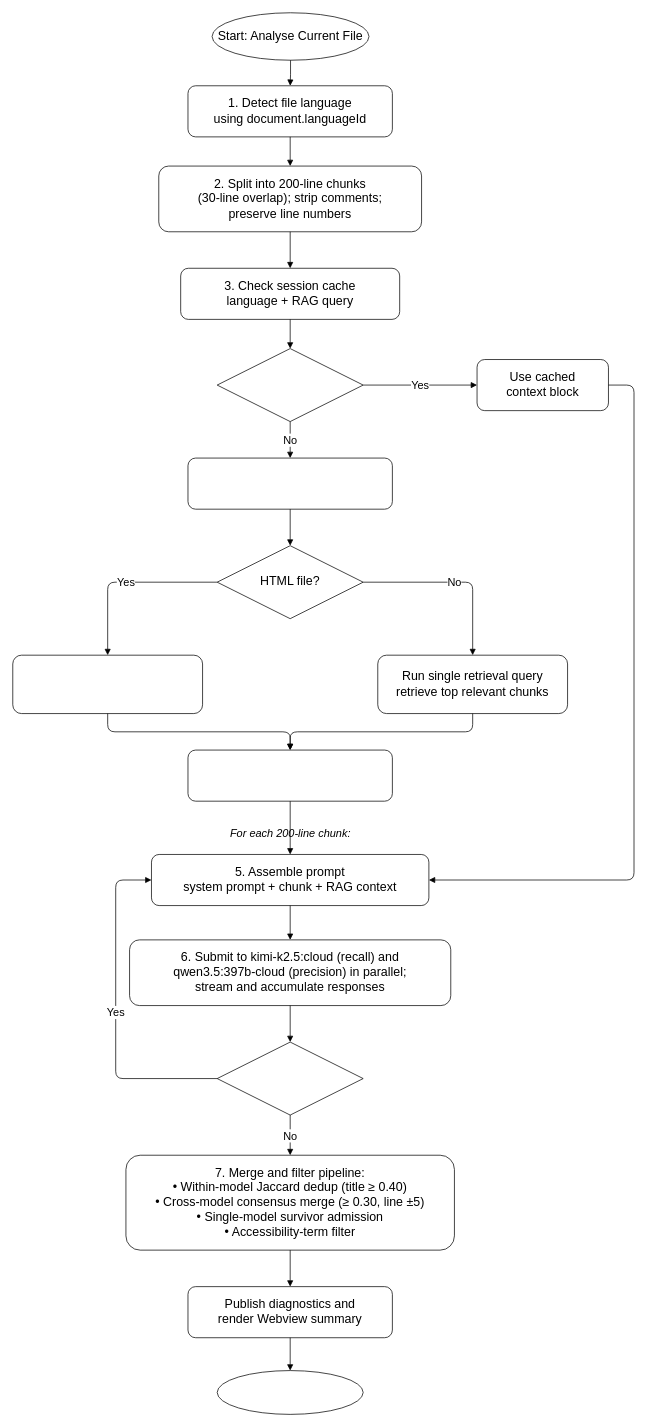
Some shapes in this 653 by 1427 pixel diagram are drawn without their labels. The centre of each missing label's shape, as x and y in pixels:
"4. Build RAG query and retrieve chunks" belongs at (x=289, y=483).
"Cache hit?" belongs at (x=289, y=385).
"End: Final issue list" belongs at (x=289, y=1392).
"Format retrieved chunks as prompt context block" belongs at (x=289, y=775).
"More chunks?" belongs at (x=289, y=1078).
"Run 5 targeted sweep queries deduplicate returned chunks" belongs at (x=107, y=684).
